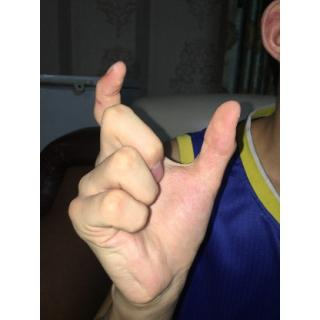NOON: (66, 56, 243, 312)
